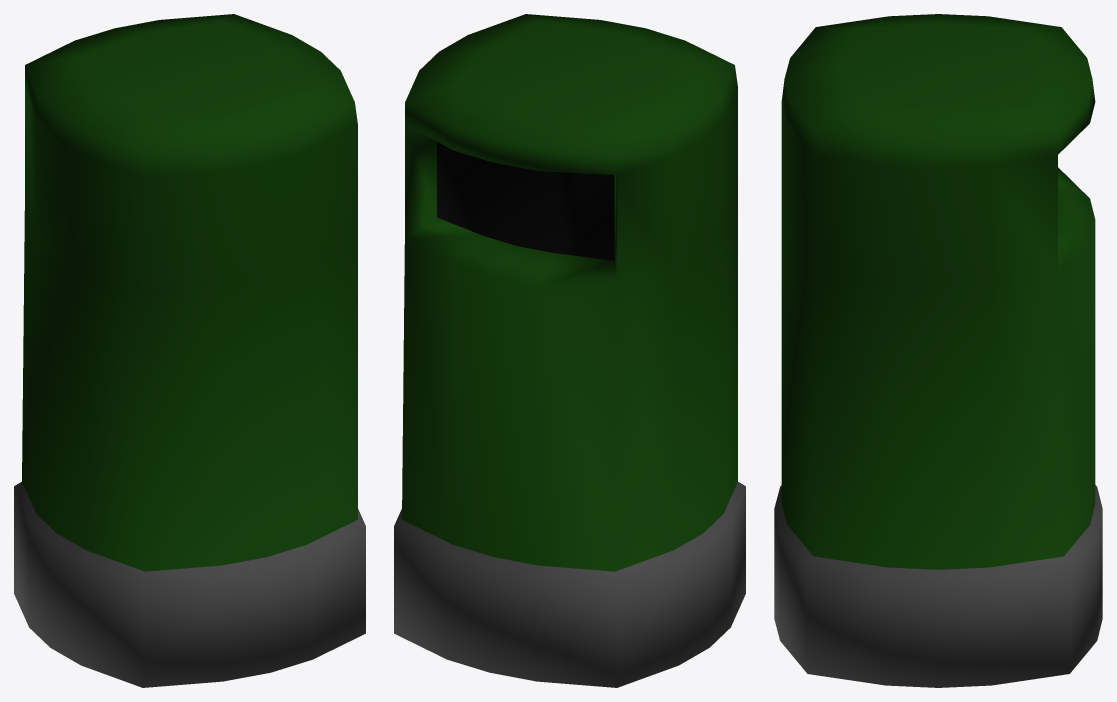
The model's file is MetalTrashCan.fbx.
The picture shows the model from 3 angles, left to right: view 1: azimuth 30°, elevation 25°; view 2: azimuth 150°, elevation 25°; view 3: azimuth 270°, elevation 25°; orthographic projection.
Visible parts, largest first — view 1: Cube; view 2: Cube; view 3: Cube.
Part boxes in pixels (x1,y1,x2,y2): Cube: (14,14,365,687); Cube: (394,14,745,687); Cube: (774,14,1102,687).
Size of the model in its own units: 195 by 362 by 195.
